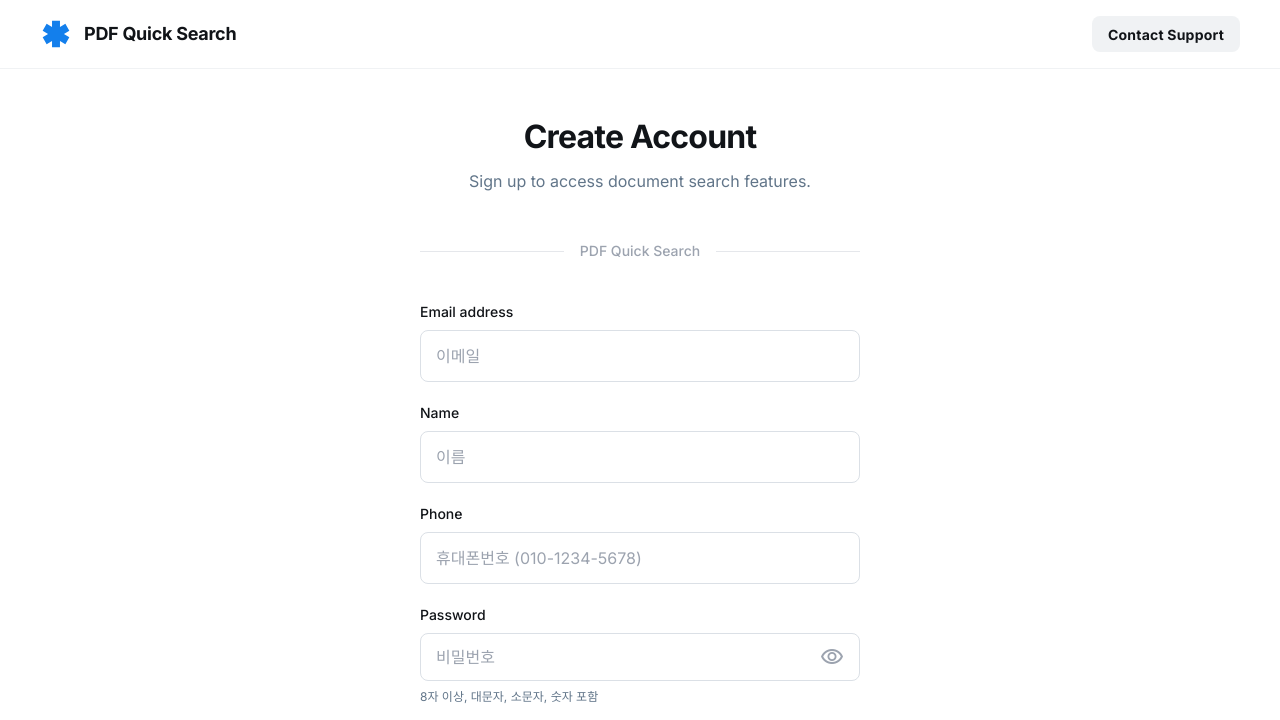
Scenario: SignupPage › Form validation › should show error when email is empty
// Fill other fields but leave email empty
Step 1. Type "Test User" into the field labelled "Name" → [640, 457], box [420,431,860,483]
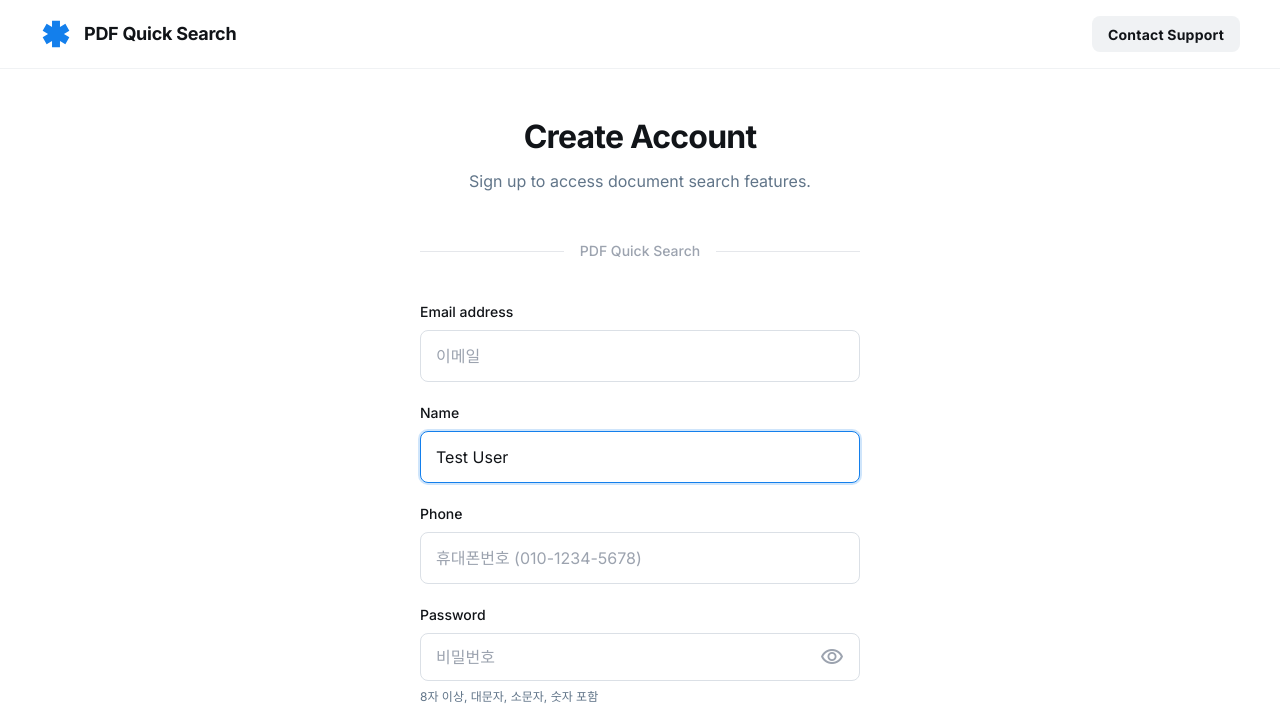
Step 2. Type "010-1234-5678" into the field labelled "Phone" → [640, 558], box [420,532,860,584]
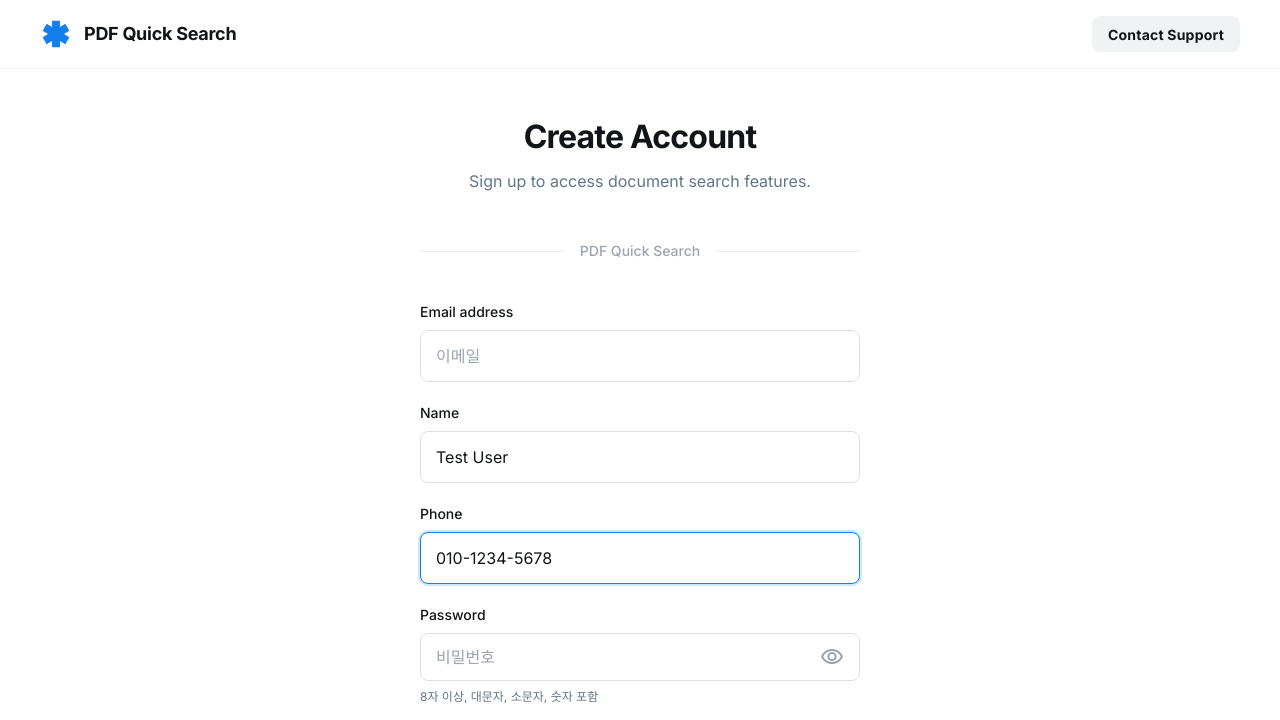
Step 3. Type "Password123" into the password field labelled "Password" → [640, 657], box [420,633,860,681]
(page scrolled)
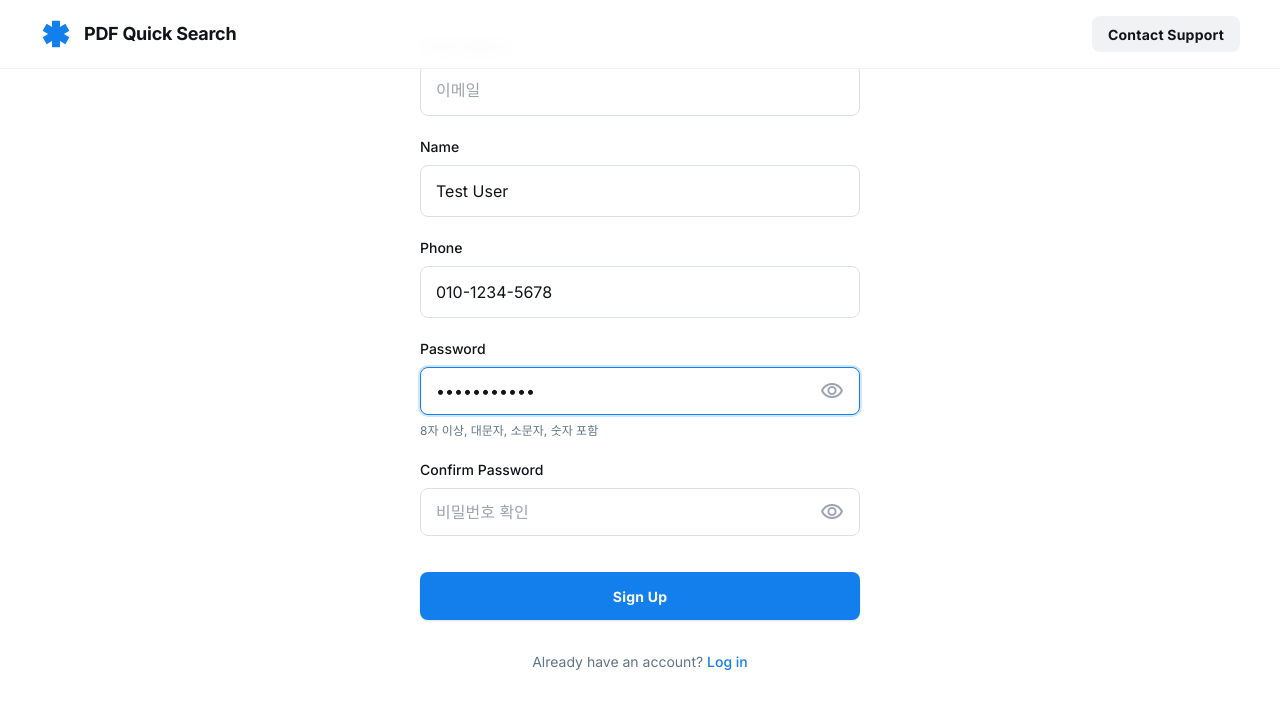
Step 4. Type "Password123" into the password field labelled "Confirm Password" → [640, 512], box [420,488,860,536]
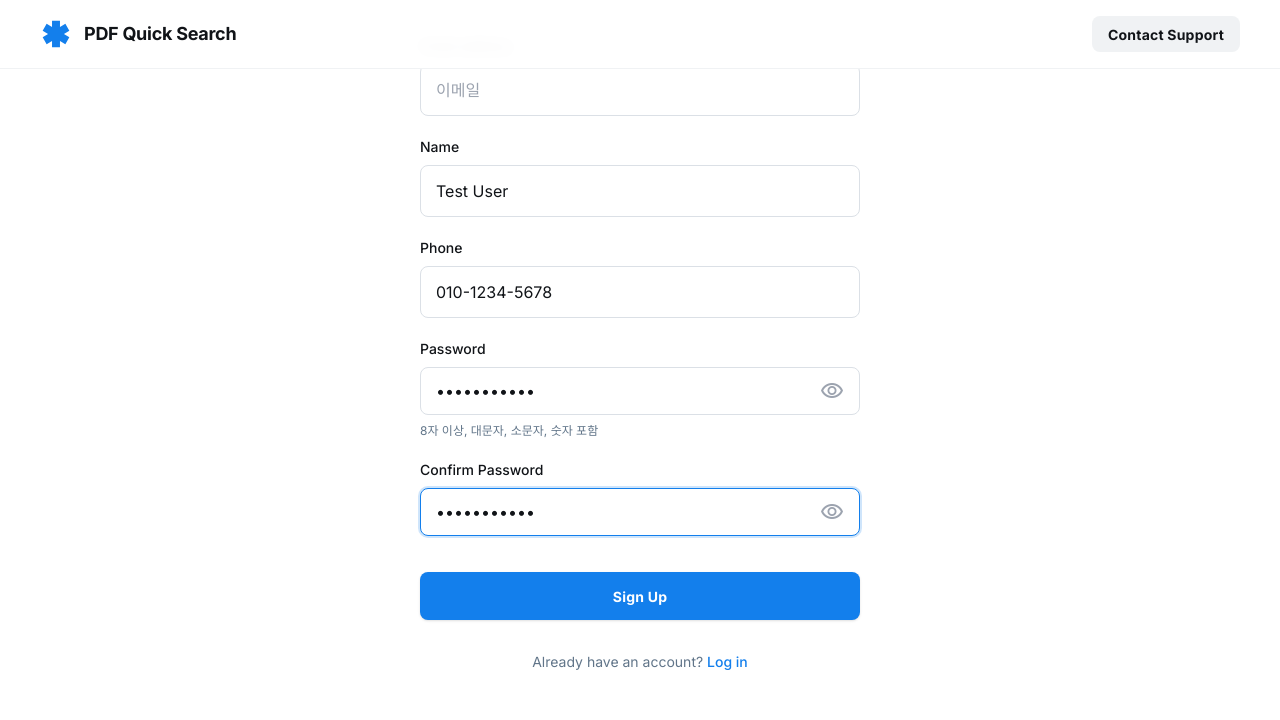
Step 5. Click the button "Sign Up" → [640, 596], box [420,572,860,620]
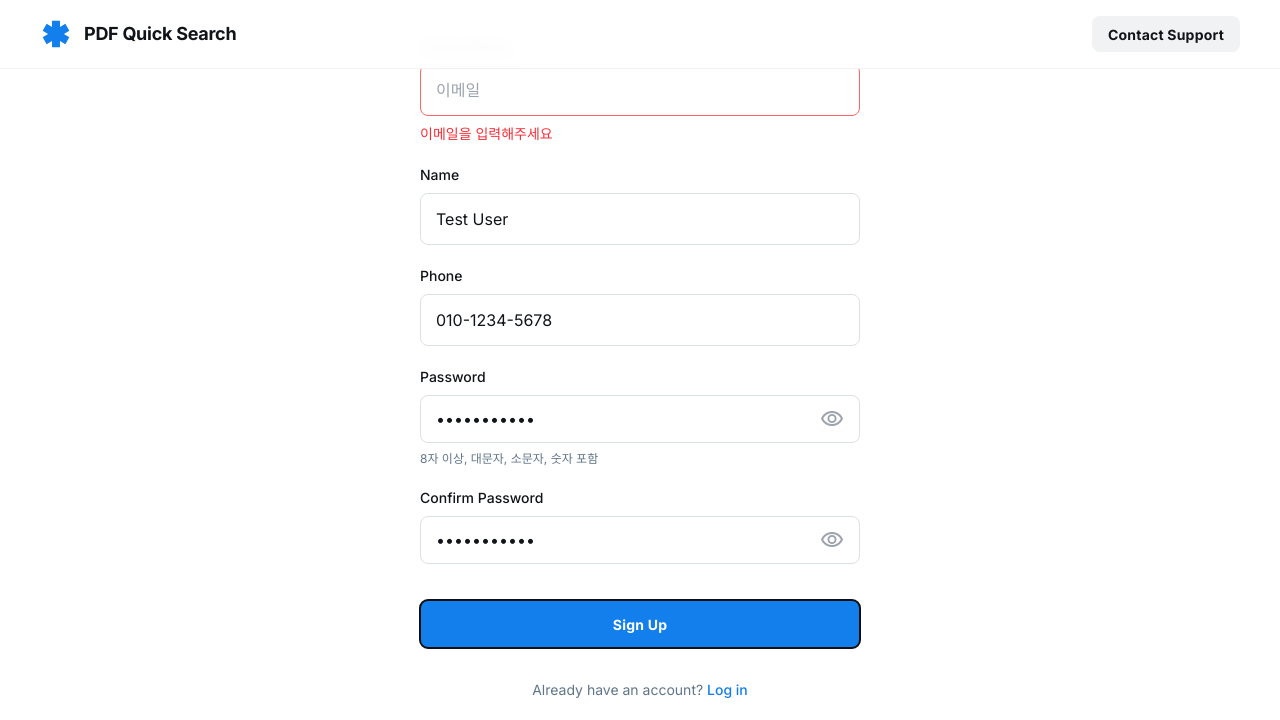
Now the text "이메일을 입력해주세요" is shown, box [420,125,553,142]
